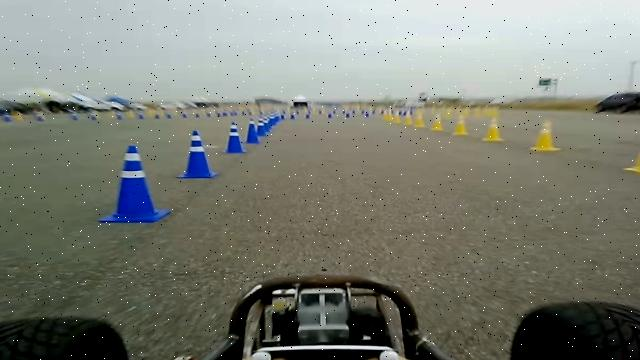blue cone: (98, 144, 170, 223), (175, 130, 218, 178), (222, 121, 246, 153), (245, 119, 260, 144)
yellow cone: (530, 120, 560, 152), (623, 132, 640, 174), (482, 116, 503, 142), (452, 114, 468, 136), (430, 113, 444, 131), (414, 108, 425, 128), (382, 108, 392, 121), (404, 110, 412, 125), (393, 110, 401, 123)
